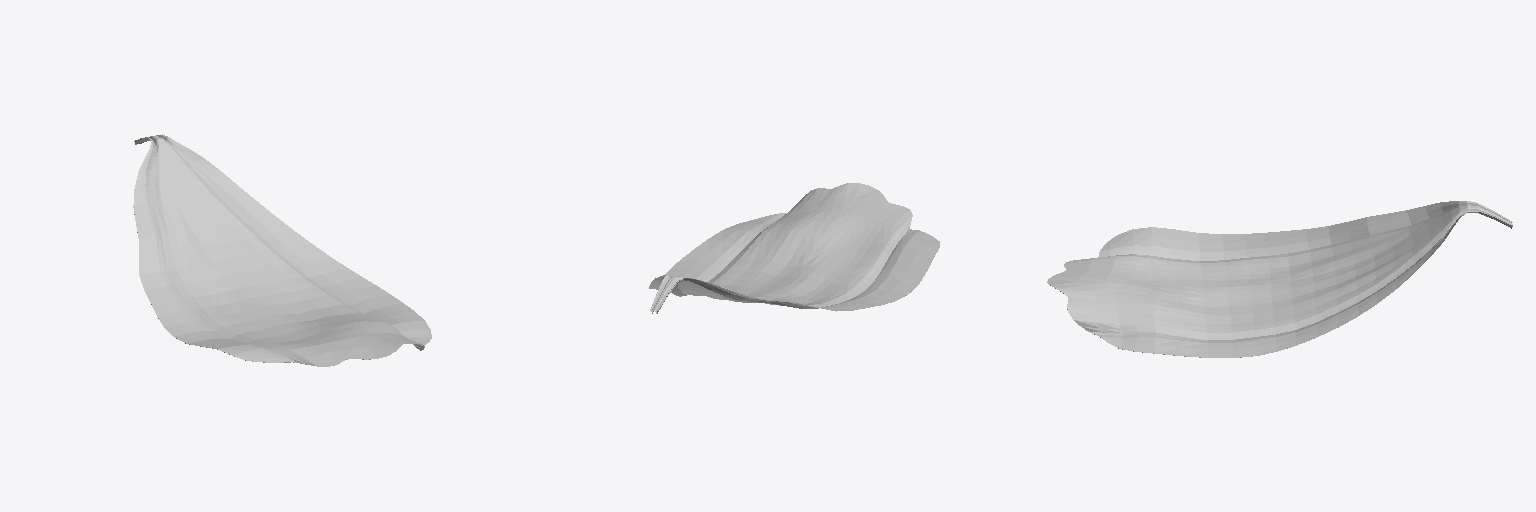
File: petal7.obj
3 renders of one model, left to right at view 1: azimuth 30°, elevation 25°; view 2: azimuth 150°, elevation 25°; view 3: azimuth 270°, elevation 25°, orthographic.
Parts seen in each view (by area): view 1: facb_petal_7; view 2: facb_petal_7; view 3: facb_petal_7.
Part boxes in pixels (left/top/right/bottom): facb_petal_7: left=133, top=134, right=431, bottom=366; facb_petal_7: left=649, top=183, right=939, bottom=313; facb_petal_7: left=1047, top=201, right=1512, bottom=357.
Bounding box in the file's own units: 1.26 × 0.5393 × 2.29.